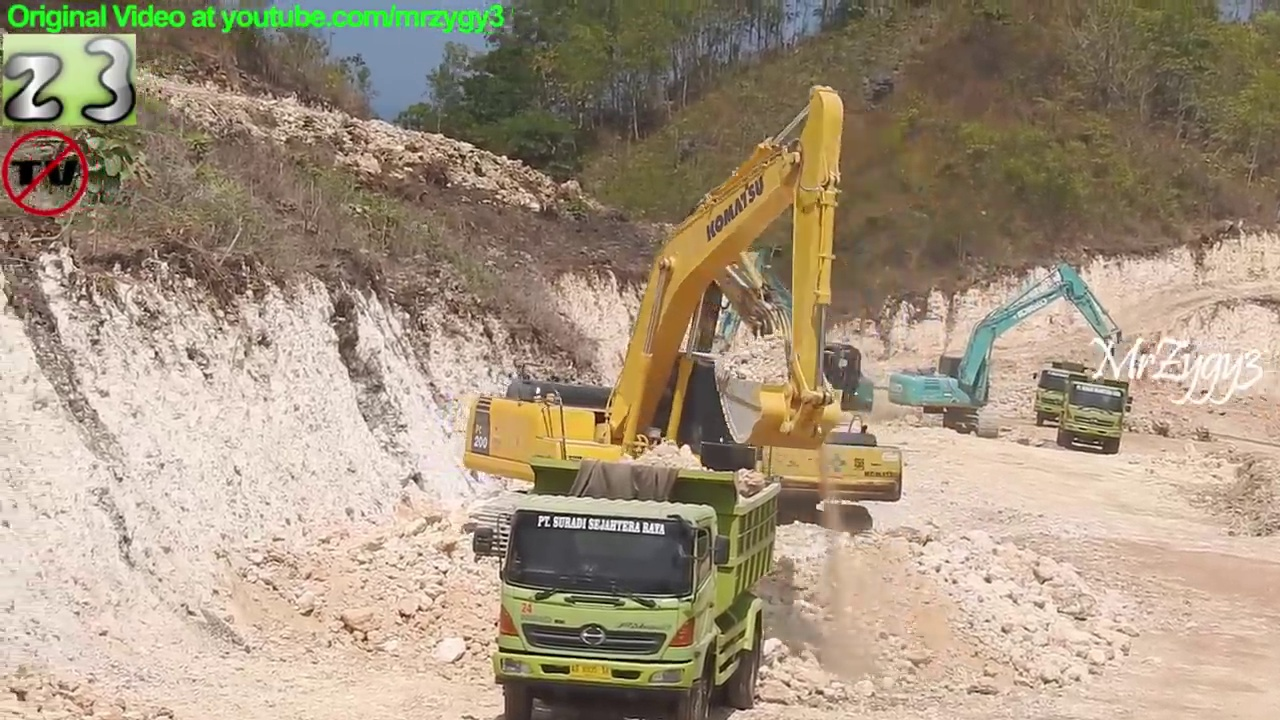excavator: (461, 81, 855, 569), (650, 186, 909, 544), (885, 258, 1126, 443), (686, 247, 879, 426)
truck: (472, 450, 784, 720), (1054, 371, 1137, 459), (1030, 357, 1102, 430)
